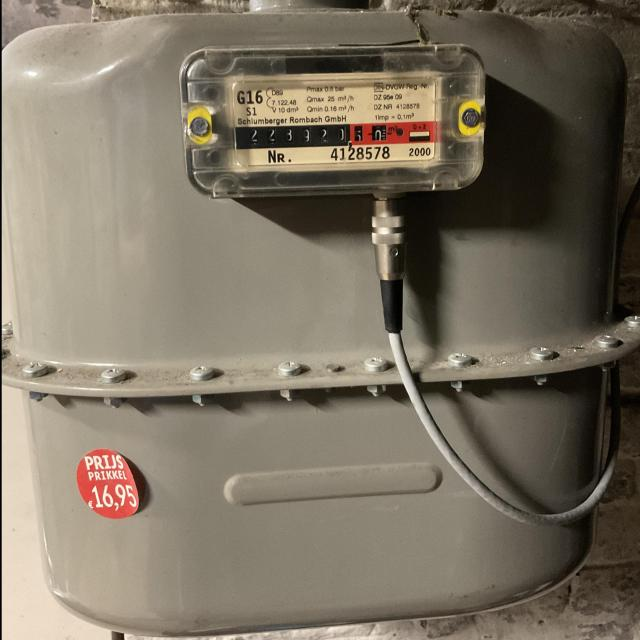gaz_meter: (230, 74, 443, 166)
indication: (240, 121, 388, 150)
